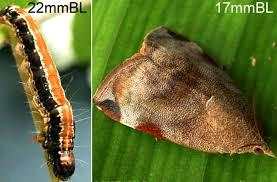Caterpillar: (3, 3, 75, 180)
